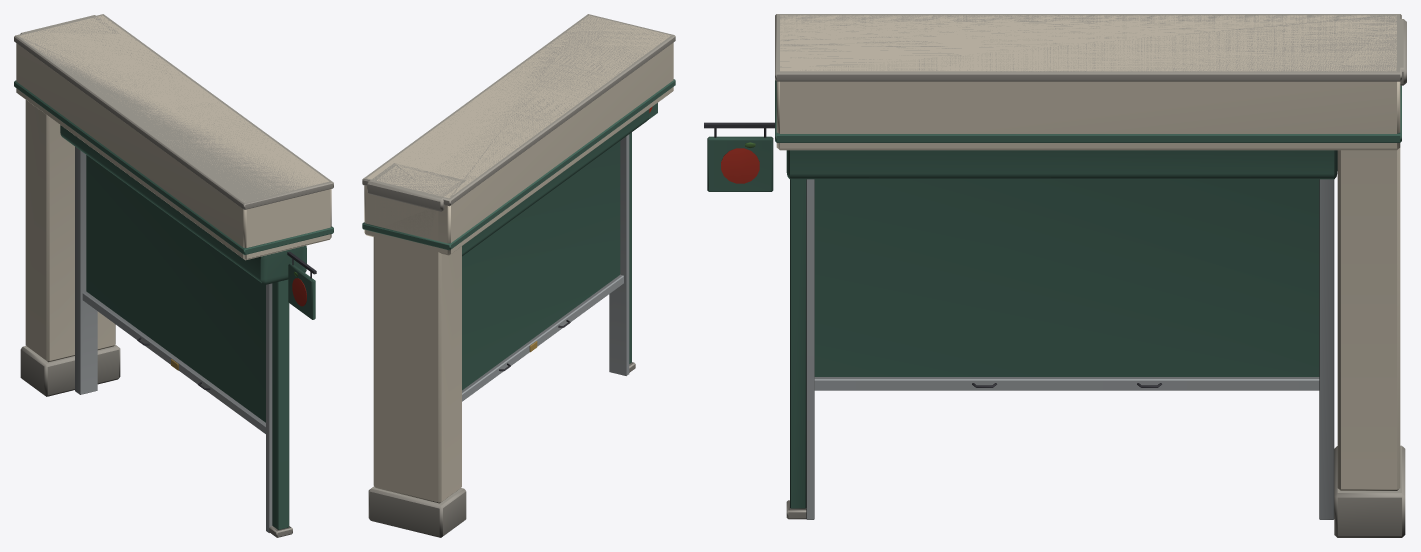
File: RollShutter.fbx
3 renders of one model, left to right at view 1: azimuth 30°, elevation 25°; view 2: azimuth 150°, elevation 25°; view 3: azimuth 270°, elevation 25°, orthographic. The views are drawn at different scales.
Visible parts, largest first — view 1: RollShutter; view 2: RollShutter; view 3: RollShutter.
Part boxes in pixels (x1,y1,x2,y2): RollShutter: (14, 14, 333, 537); RollShutter: (362, 14, 675, 537); RollShutter: (704, 14, 1406, 537).
Size of the model in its own units: 0.86 by 3.15 by 4.26.
